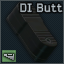FN P90 Damage Industries buttpad: (0, 0, 64, 64)
